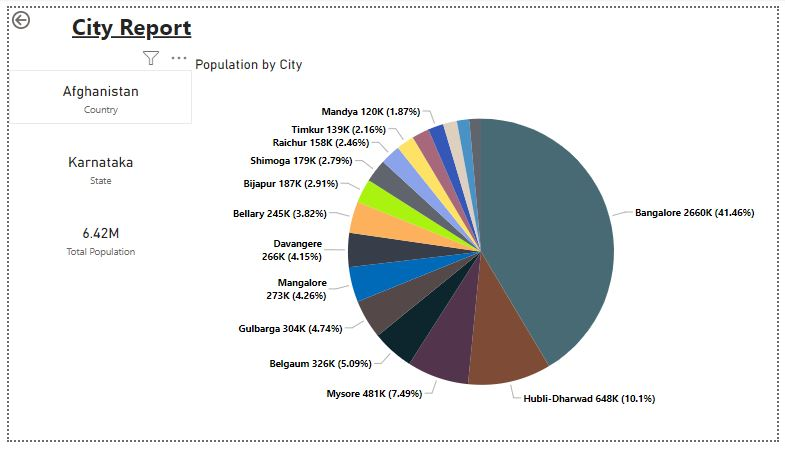

Layout of this report page (visuals, bound fields, positions):
{"tool":"powerbi","page":{"name":"City Details","canvas":[1280,720],"ordinal":3},"visuals":[{"type":"pieChart","title":"Population by City","fields":{"Category":["city.Name"],"Y":["Sum(city.Population)"]},"box":[305.3,79.2,963.4,626.4],"z":0},{"type":"actionButton","box":[0,0,100,40],"z":1000},{"type":"card","fields":{"Values":["Min(city.State)"]},"box":[0,221.7,305.7,89],"z":3000},{"type":"card","fields":{"Values":["Min(country.Name)"]},"box":[0,104.1,305.7,89],"z":4000},{"type":"textbox","box":[100.8,0,539.2,58.8],"z":5000},{"type":"card","fields":{"Values":["Sum(city.Population)"]},"box":[0,339.3,305.7,89],"z":6001}]}

Visuals, with their boxes in screenshot pixels (x1, y1, x2, y2), scaled from the page's 1280x720 canvas onto the 785x452 screenshot:
"Population by City" pieChart: 187, 50, 778, 443
actionButton: 0, 0, 61, 25
card - Min(city.State): 0, 139, 187, 195
card - Min(country.Name): 0, 65, 187, 121
textbox: 62, 0, 392, 37
card - Sum(city.Population): 0, 213, 187, 269
